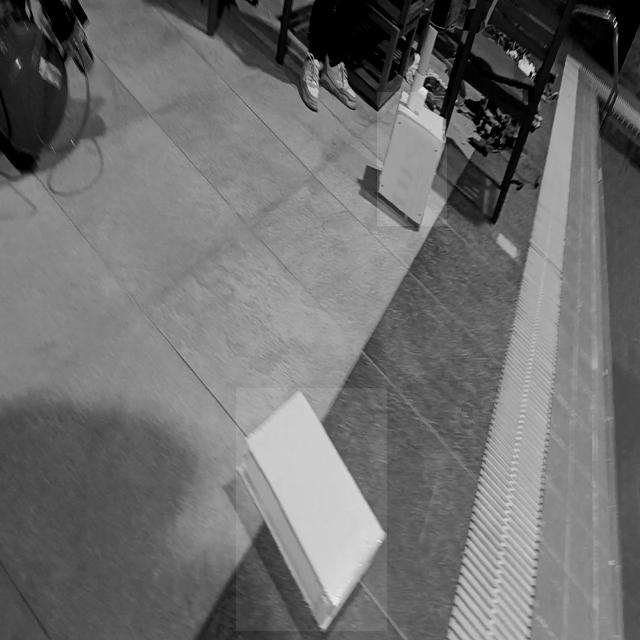Cube: (377, 92, 447, 226)
Cuboid: (236, 388, 387, 631)
